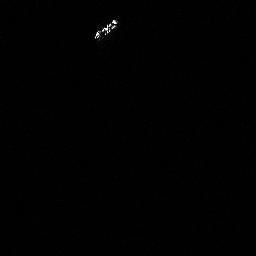ship: (91, 16, 120, 43)
